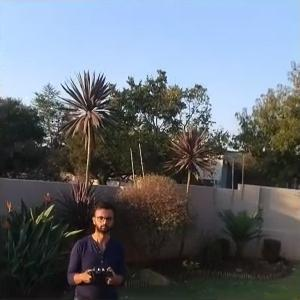follow: (65, 195, 127, 299)
